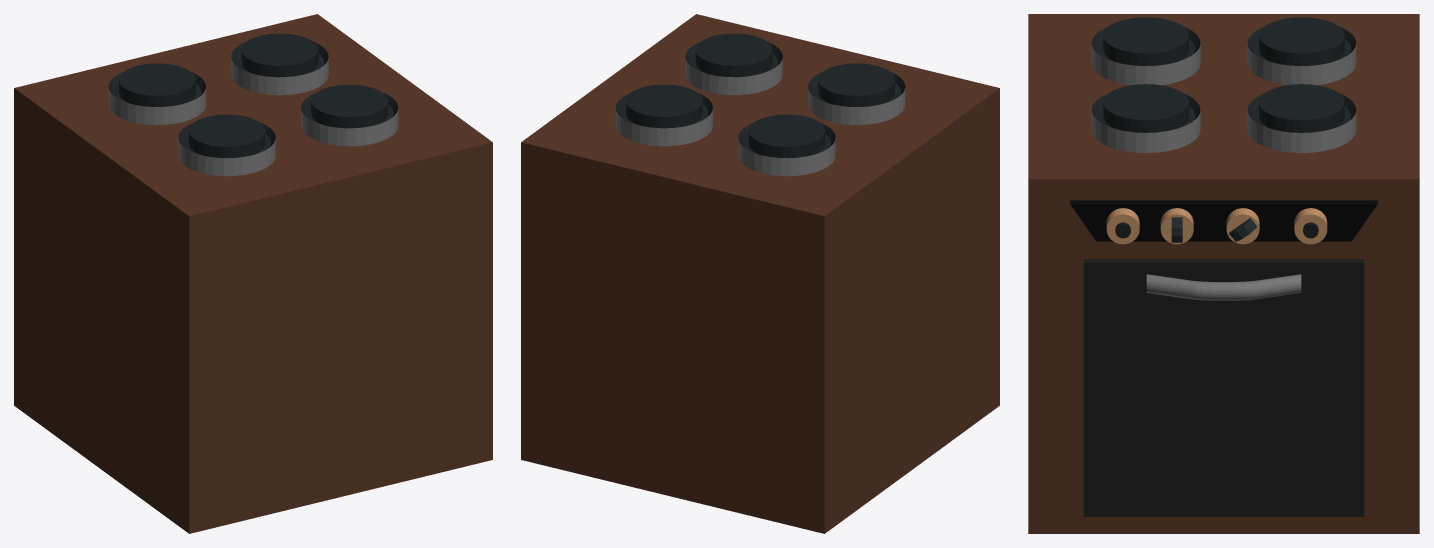
The model's file is Old Oven.fbx.
The picture shows the model from 3 angles, left to right: view 1: azimuth 30°, elevation 25°; view 2: azimuth 150°, elevation 25°; view 3: azimuth 270°, elevation 25°; orthographic projection. The views are drawn at different scales.
Visible parts, largest first — view 1: Cube, Cylinder; view 2: Cube, Cylinder; view 3: Cube, Cylinder, Cylinder.005, Cylinder.002, Cylinder.004, Cylinder.001, Cylinder.003.
Part boxes in pixels (bbox=[...]): Cube: bbox=[14, 14, 492, 533]; Cylinder: bbox=[108, 33, 398, 176]; Cube: bbox=[521, 14, 999, 533]; Cylinder: bbox=[615, 33, 905, 176]; Cube: bbox=[1028, 14, 1419, 533]; Cylinder: bbox=[1091, 17, 1356, 152]; Cylinder.005: bbox=[1146, 274, 1301, 300]; Cylinder.002: bbox=[1294, 208, 1327, 244]; Cylinder.004: bbox=[1106, 208, 1139, 244]; Cylinder.001: bbox=[1160, 208, 1193, 244]; Cylinder.003: bbox=[1226, 208, 1259, 244].
Bounding box in the file's own units: 222 × 216 × 200.
